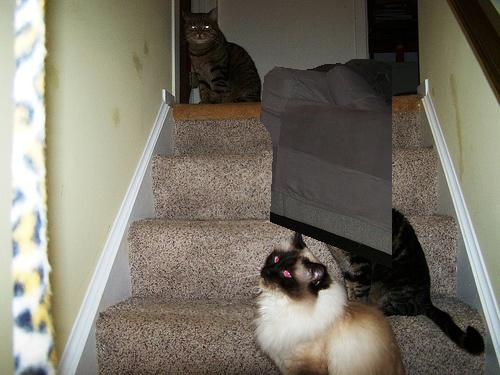tampered: (261, 60, 392, 268)
